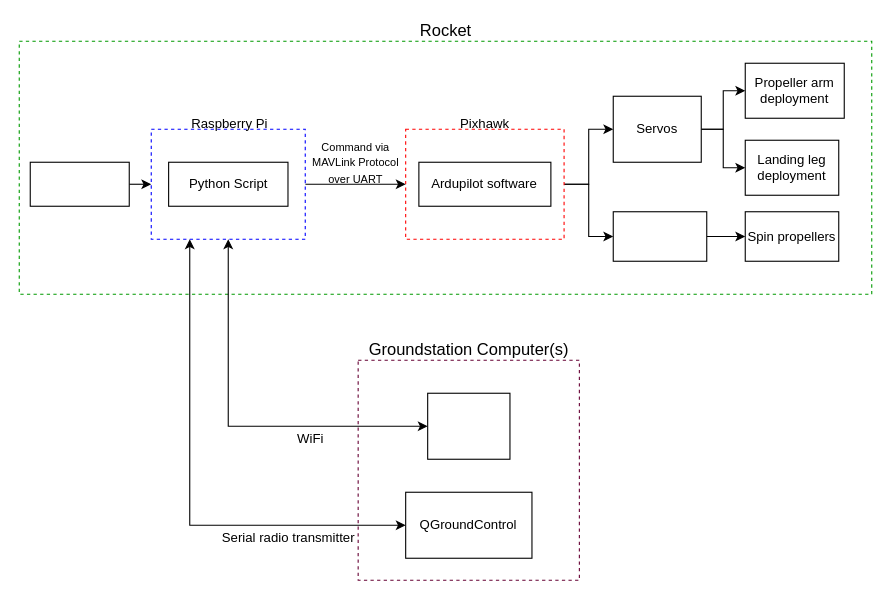
The diagram is 891 pixels wide and 600 high, and some of its shapes have lost their labels. Each missing label, with the centre of its shape:
Accelerometer: [79,183]
ESCs: [659,236]
SSH: [468,425]
